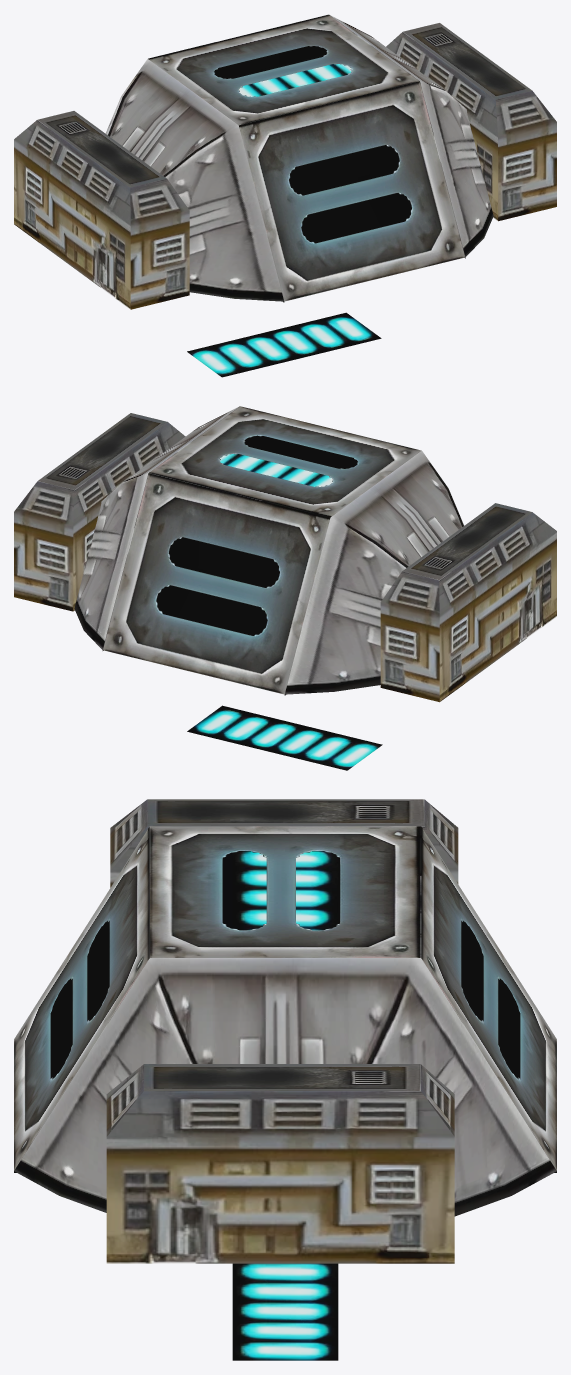
Rendered from l_turretgenerator_hdtex.glb.
3 renders of one model, top to bottom at view 1: azimuth 30°, elevation 25°; view 2: azimuth 150°, elevation 25°; view 3: azimuth 270°, elevation 25°, orthographic. The views are drawn at different scales.
Parts seen in each view (by area): view 1: PowerGenerator, Coil; view 2: PowerGenerator, Coil; view 3: PowerGenerator, Coil.
Part boxes in pixels (x1,y1,x2,y2): PowerGenerator: [14, 14, 556, 309]; Coil: [187, 53, 381, 377]; PowerGenerator: [14, 406, 556, 702]; Coil: [187, 454, 382, 770]; PowerGenerator: [14, 799, 556, 1263]; Coil: [232, 851, 338, 1360].
Bounding box in the file's own units: 16.8 × 10.4 × 12.47.
Materials: 2 (2 with a texture image).
